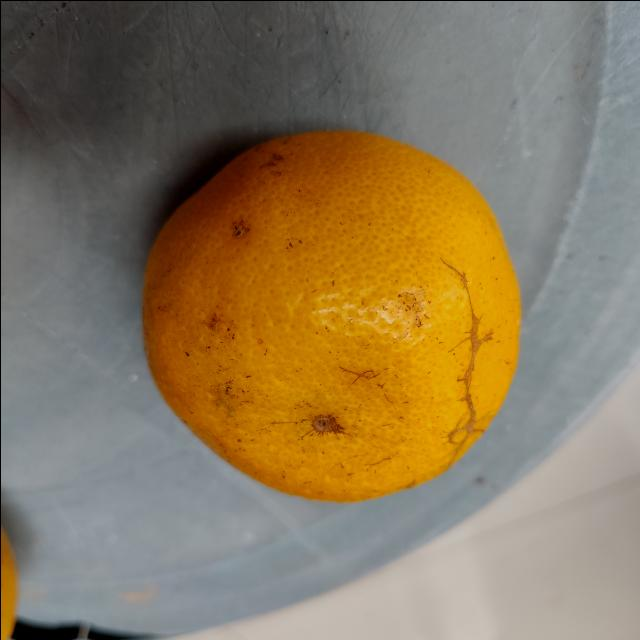orange: (138, 126, 521, 506)
